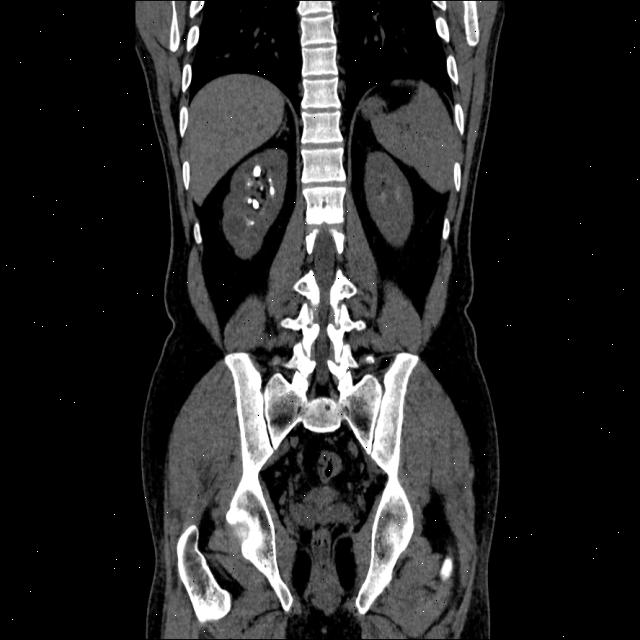kidneystone: (248, 198, 260, 210), (252, 164, 262, 178), (269, 185, 276, 198), (278, 187, 284, 201)
